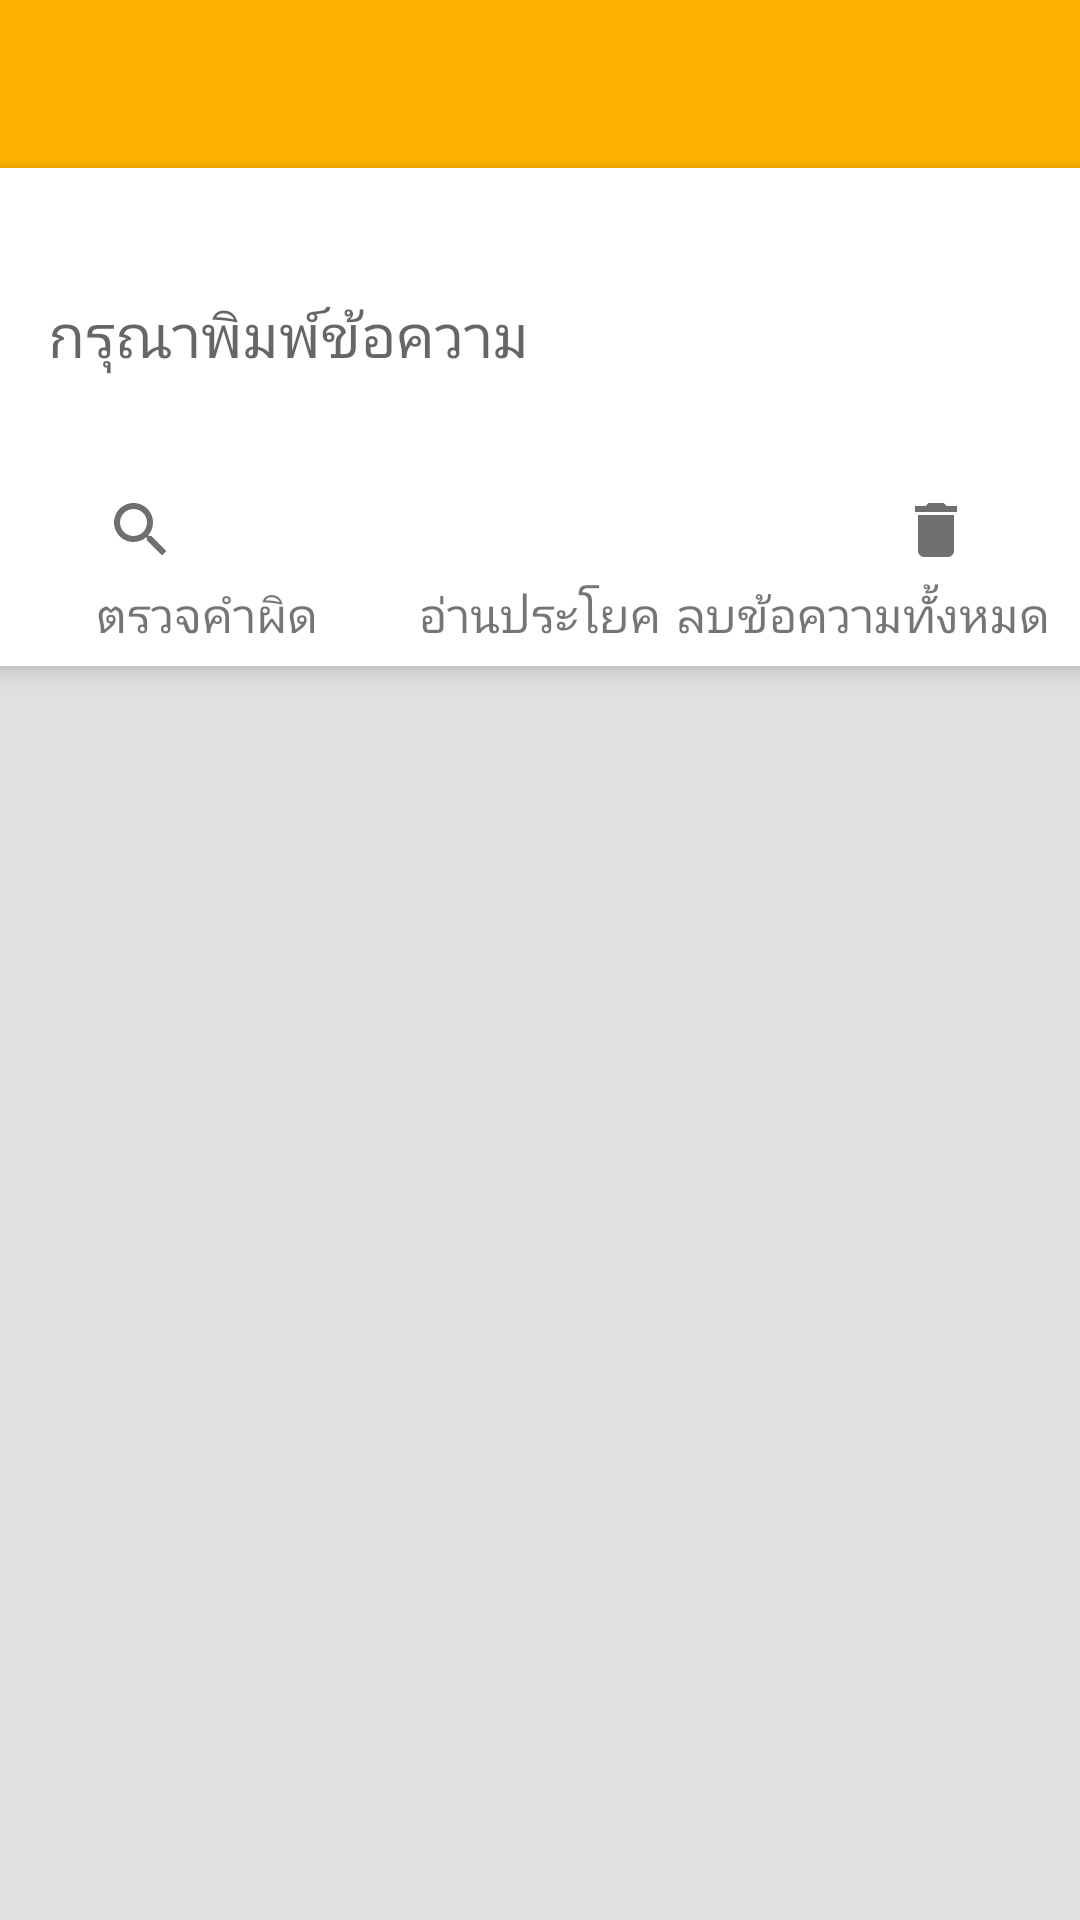

Named icons in this screenshot (1080 x 1920) and their centers, point (x, y):
delete: point (936, 530)
search: point (140, 529)
